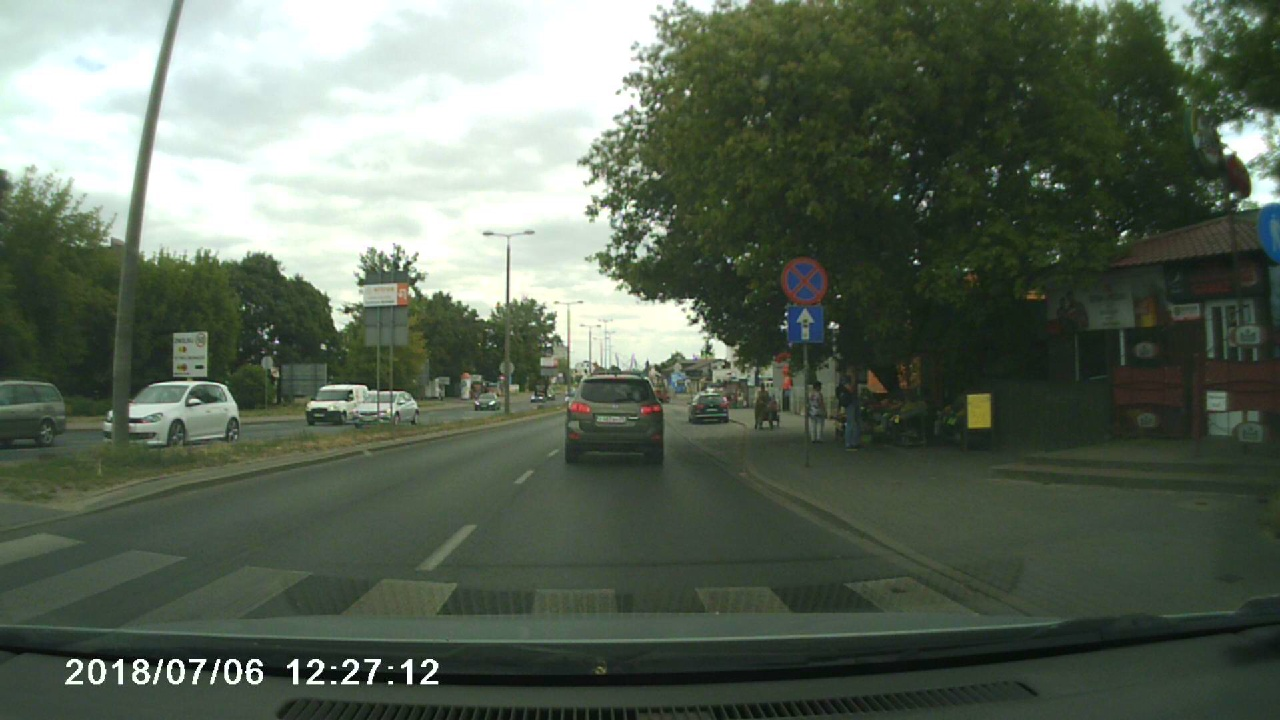B36: (781, 258, 828, 306)
D3: (787, 306, 824, 344)
